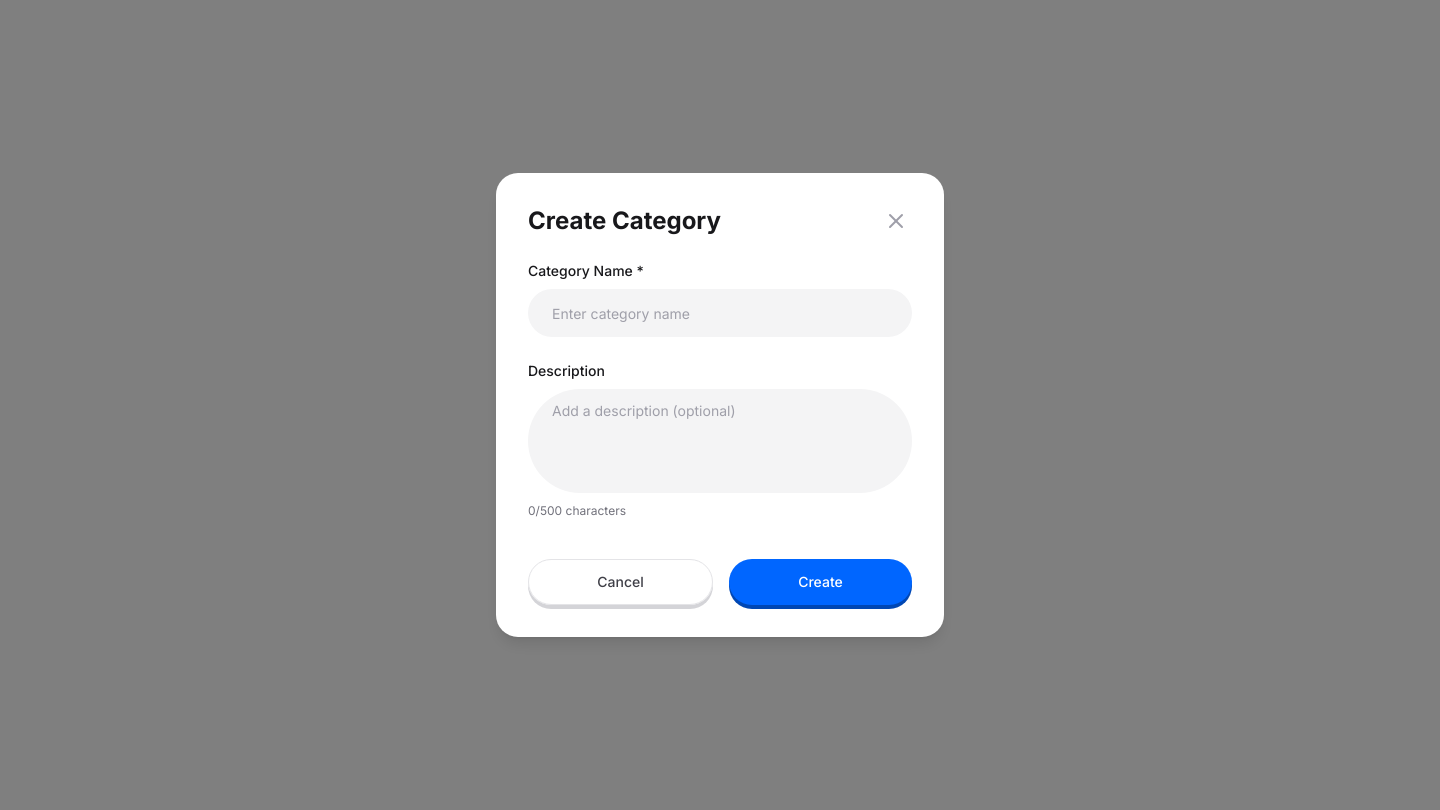
it: CreateCategoryModal Component › Category Name Validation › should display error for empty category name on blur
Click the field labelled "Category Name *" at (720, 313), box x1=528 y1=289 x2=912 y2=337
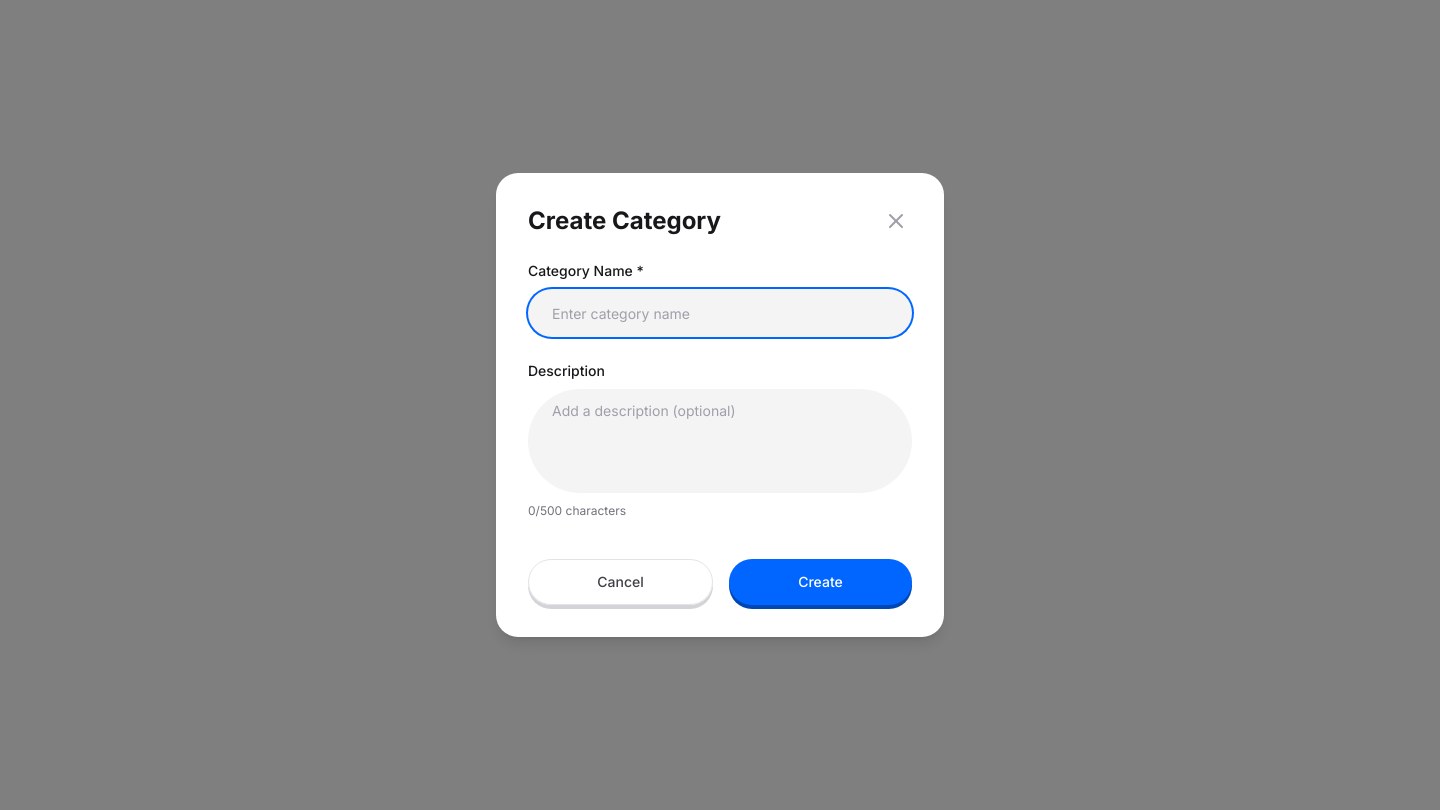
Press Tab
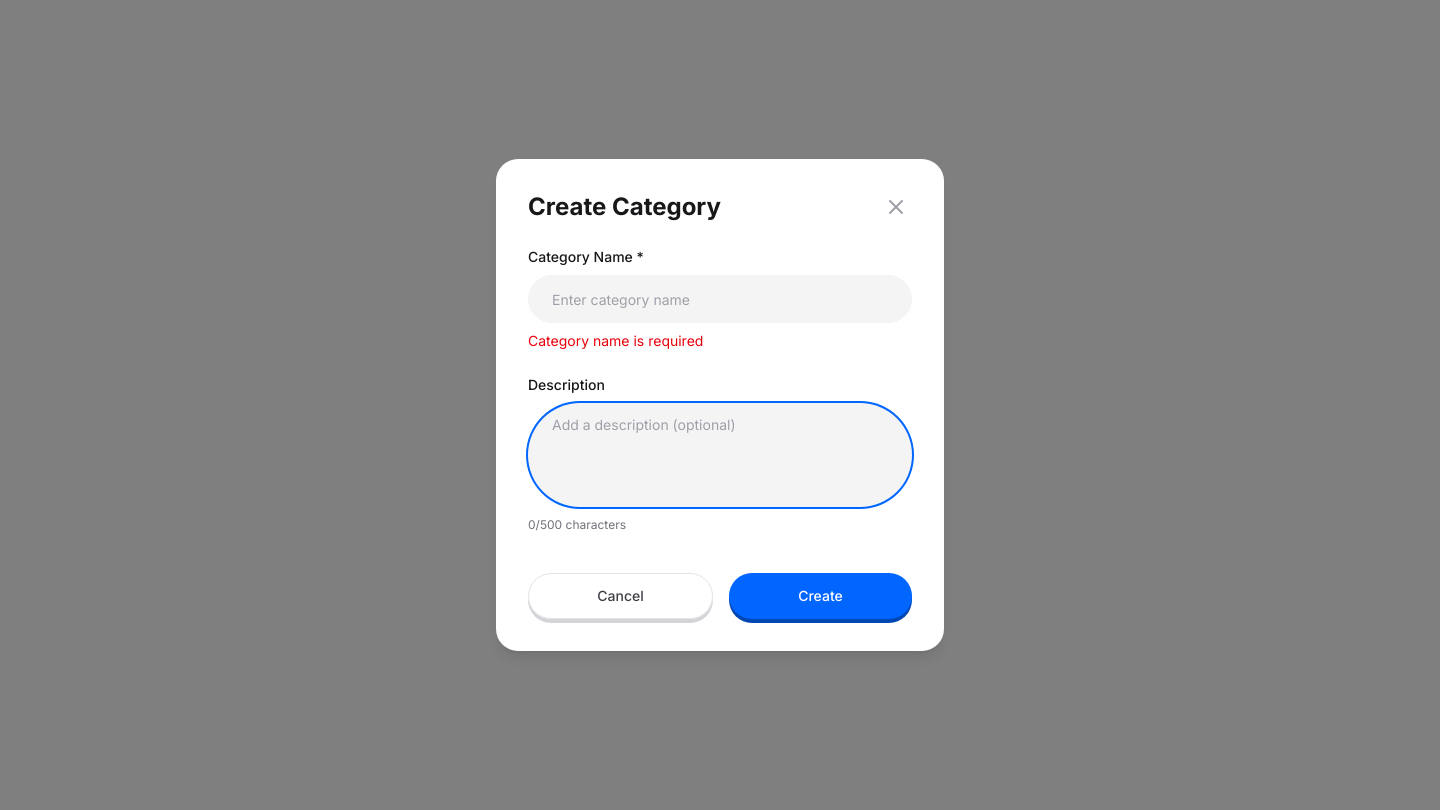
Result: the text "Category name is required" is shown at x1=528 y1=332 x2=703 y2=349
